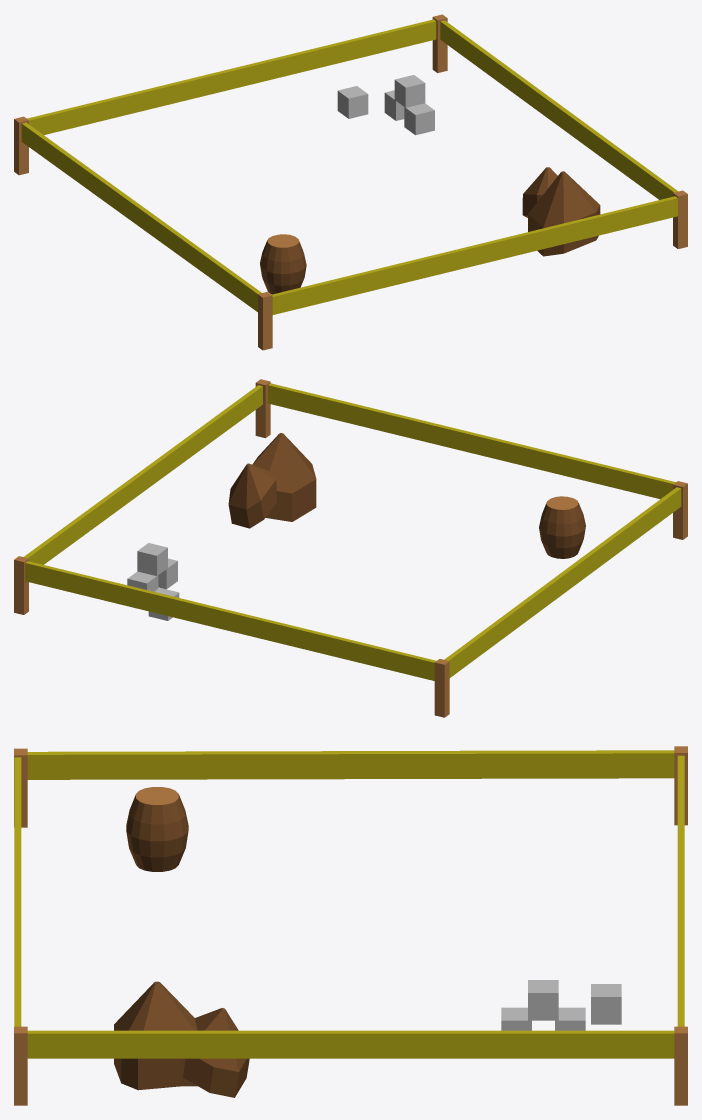
The model's file is HouseBuilding.fbx.
3 views of the same model, one above another, from view 1: azimuth 30°, elevation 25°; view 2: azimuth 150°, elevation 25°; view 3: azimuth 270°, elevation 25° (orthographic). The views are drawn at different scales.
Parts seen in each view (by area): view 1: Plane; view 2: Plane; view 3: Plane.
Boxes of the visible parts, x1,y1,x2,y2 form: Plane: (14,14,687,350); Plane: (14,379,687,717); Plane: (14,746,687,1105).
Bounding box in the file's own units: 528 × 86.62 × 524.
Materials: 1 (1 with a texture image).
